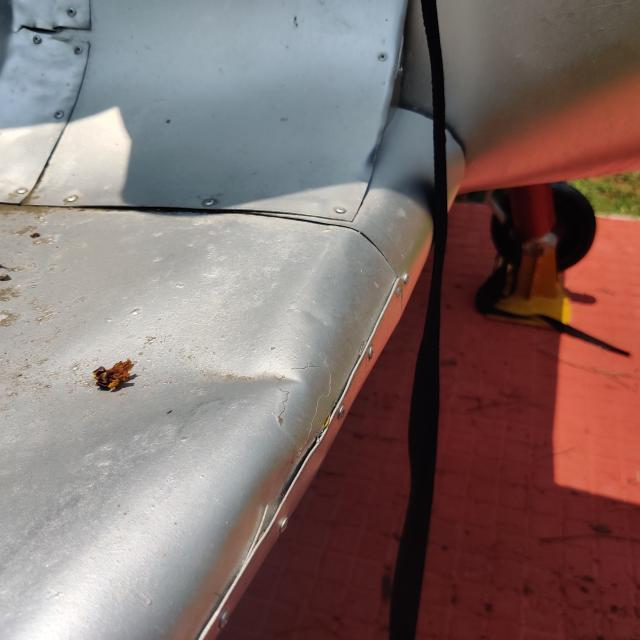Dent: (186, 337, 308, 420)
Rupture: (3, 12, 94, 63)
